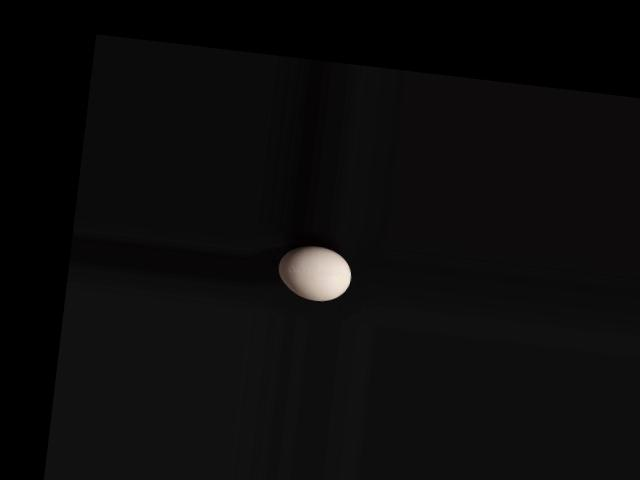egg: (276, 242, 355, 304)
